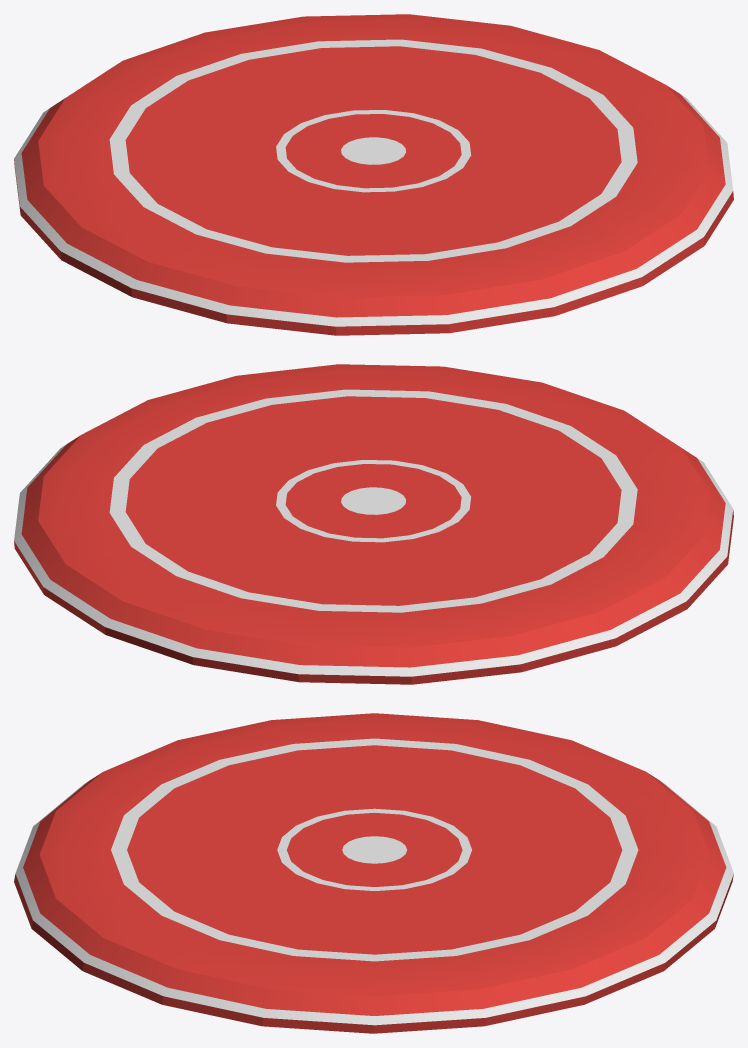
File: Frisbee (1).fbx
3 views of the same model, one above another, from view 1: azimuth 30°, elevation 25°; view 2: azimuth 150°, elevation 25°; view 3: azimuth 270°, elevation 25° (orthographic).
Parts seen in each view (by area): view 1: polySurface16; view 2: polySurface16; view 3: polySurface16.
Part boxes in pixels (x1,y1,x2,y2): polySurface16: [14, 14, 733, 335]; polySurface16: [14, 364, 733, 684]; polySurface16: [14, 713, 733, 1033].
Bounding box in the file's own units: 9.86 × 0.4942 × 9.88.
